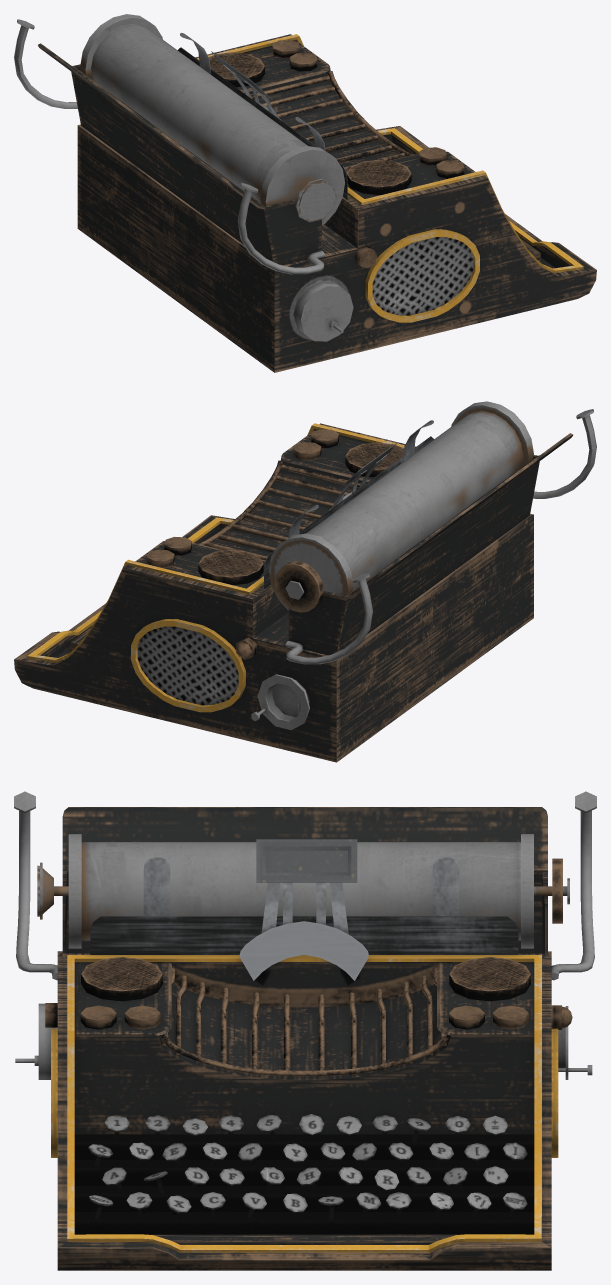
3 views of the same model, one above another, from view 1: azimuth 30°, elevation 25°; view 2: azimuth 150°, elevation 25°; view 3: azimuth 270°, elevation 25° (orthographic). The views are drawn at different scales.
Visible parts, largest first — view 1: Object_2_Baked; view 2: Object_2_Baked; view 3: Object_2_Baked.
Boxes of the visible parts, bbox=[...] form: Object_2_Baked: bbox=[14, 14, 596, 372]; Object_2_Baked: bbox=[14, 401, 596, 762]; Object_2_Baked: bbox=[14, 791, 596, 1270].
Size of the model in its own units: 26.29 by 14.91 by 28.48.
Materials: 1 (1 with a texture image).
